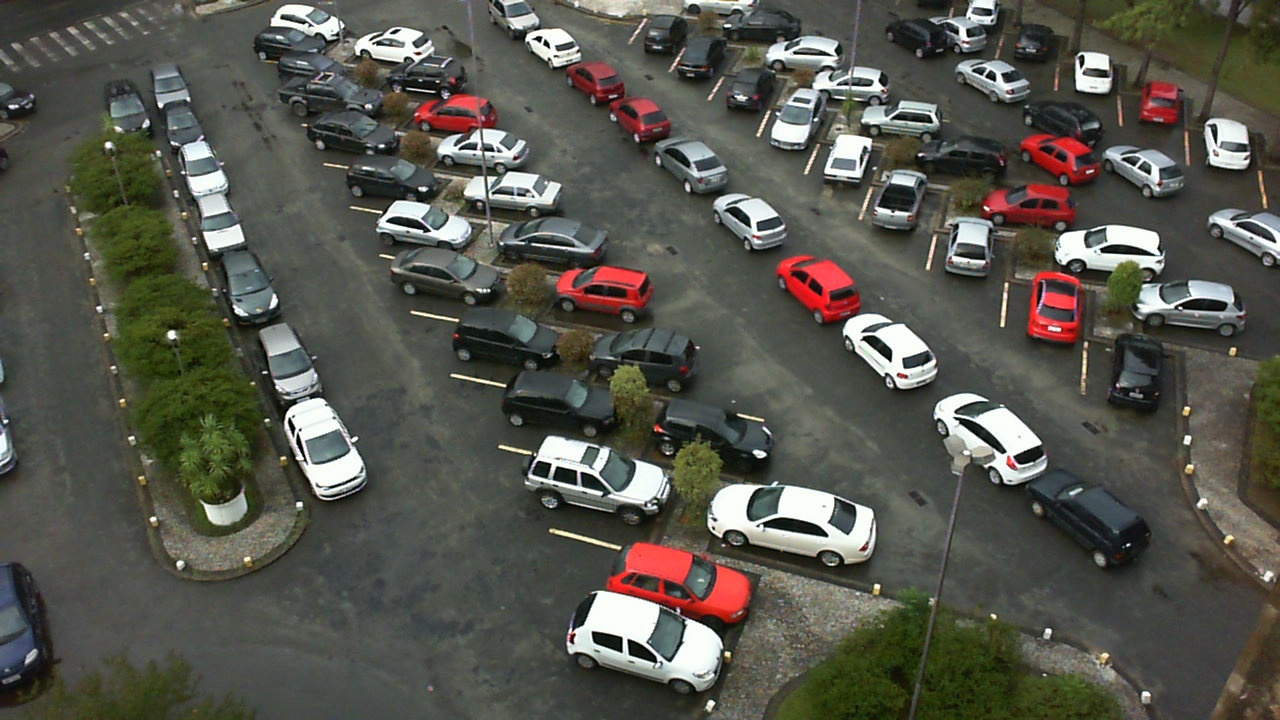Car: (564, 590, 726, 695), (706, 483, 878, 569), (524, 435, 672, 526), (605, 542, 754, 629), (1026, 469, 1151, 570), (931, 393, 1049, 487), (652, 399, 776, 474), (283, 398, 368, 502), (501, 370, 619, 438), (589, 327, 701, 393), (843, 313, 939, 390), (0, 562, 53, 694), (1132, 280, 1246, 337), (389, 249, 502, 306), (1053, 225, 1166, 281), (775, 255, 861, 325), (555, 265, 655, 324), (497, 216, 608, 267), (257, 323, 325, 406), (375, 201, 475, 250), (463, 171, 564, 217), (278, 73, 383, 117), (221, 250, 281, 326), (711, 193, 787, 252), (981, 184, 1076, 231), (1101, 145, 1185, 198), (1108, 333, 1164, 412), (652, 137, 728, 195), (1206, 209, 1280, 268), (915, 135, 1009, 180), (346, 156, 439, 201), (1026, 271, 1083, 344), (436, 129, 530, 173), (1019, 134, 1100, 185), (305, 112, 399, 154), (1022, 100, 1104, 146), (769, 88, 827, 152), (387, 55, 468, 98), (954, 59, 1031, 104), (871, 170, 926, 232), (412, 94, 498, 133), (859, 101, 944, 140), (353, 26, 436, 65), (812, 66, 890, 106), (270, 4, 346, 44), (198, 195, 247, 257), (178, 142, 230, 200), (609, 97, 671, 145), (945, 218, 993, 278), (722, 8, 802, 43), (765, 36, 844, 71), (822, 134, 874, 186), (1202, 118, 1252, 172), (104, 80, 152, 135), (252, 26, 325, 62), (565, 62, 626, 105), (885, 19, 949, 59), (524, 28, 582, 70), (162, 100, 207, 153), (928, 17, 988, 55), (726, 67, 776, 112), (276, 51, 348, 81), (1139, 81, 1182, 127), (488, 0, 540, 38), (678, 37, 722, 81), (151, 64, 192, 110), (1073, 52, 1114, 96), (644, 15, 688, 55), (1013, 23, 1054, 62), (0, 397, 19, 477), (0, 80, 37, 120), (683, 0, 761, 17), (966, 0, 1001, 28), (0, 145, 11, 175)
